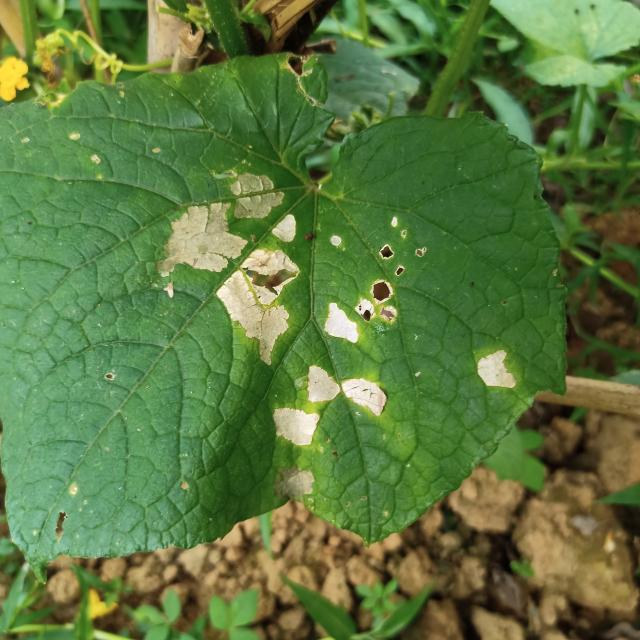disease_cucumber: (160, 170, 296, 368), (317, 215, 427, 349), (266, 363, 392, 452), (468, 343, 518, 399)
